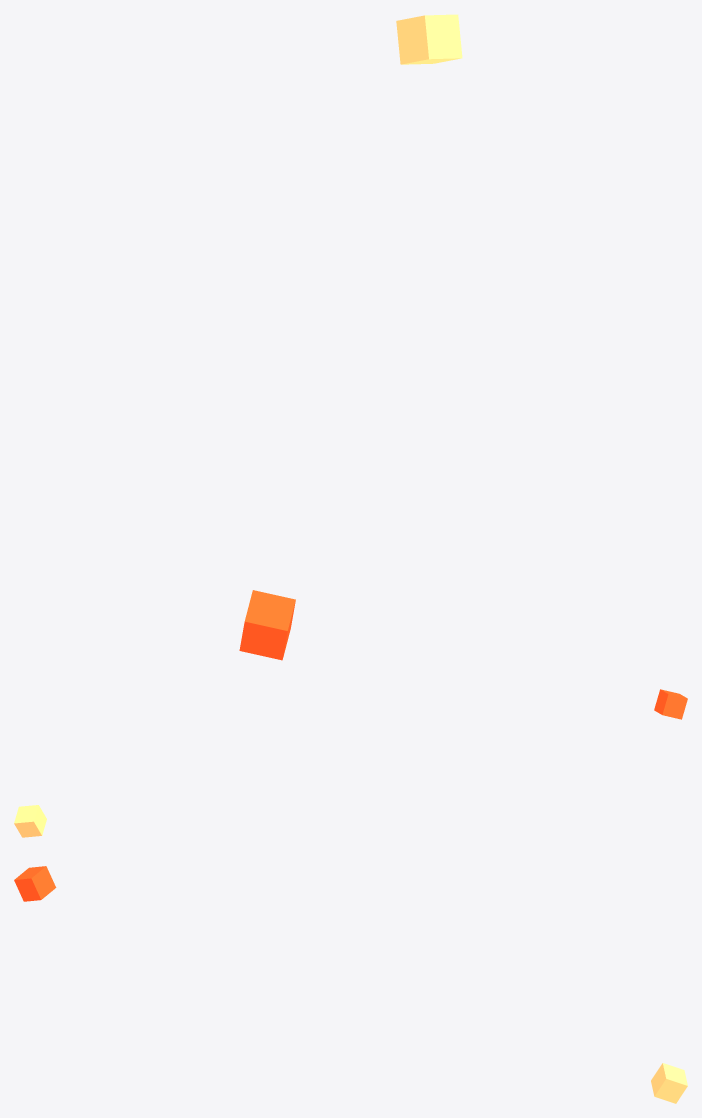
File: red_destroy.gltf
The picture shows the model from 3 angles, top to bottom: view 1: azimuth 30°, elevation 25°; view 2: azimuth 150°, elevation 25°; view 3: azimuth 270°, elevation 25°; orthographic projection. The views are drawn at different scales.
Visible parts, largest first — view 1: particle.090, particle.060; view 2: particle.090, particle.060; view 3: particle.090, particle.060.
Boxes of the visible parts, x1,y1,x2,y2 form: particle.090: (396,14,462,64); particle.060: (239,590,295,660); particle.090: (14,805,46,837); particle.060: (654,689,687,719); particle.090: (651,1063,687,1103); particle.060: (14,866,56,901).
Size of what is drawn, in the model's own units: 2.03 by 0.1553 by 2.69.
